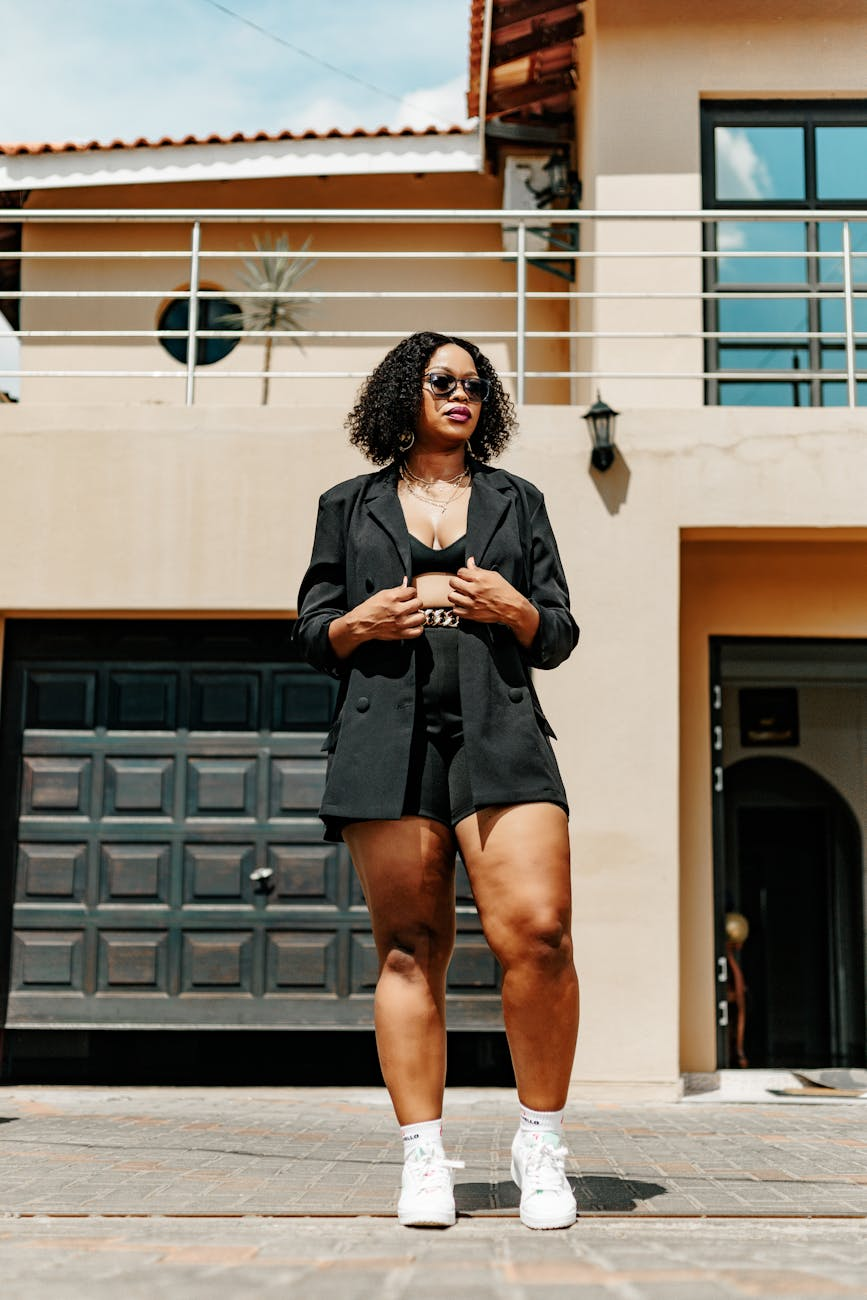crop_top: (349, 490, 528, 602)
short_medium_skirt: (310, 612, 576, 833)
